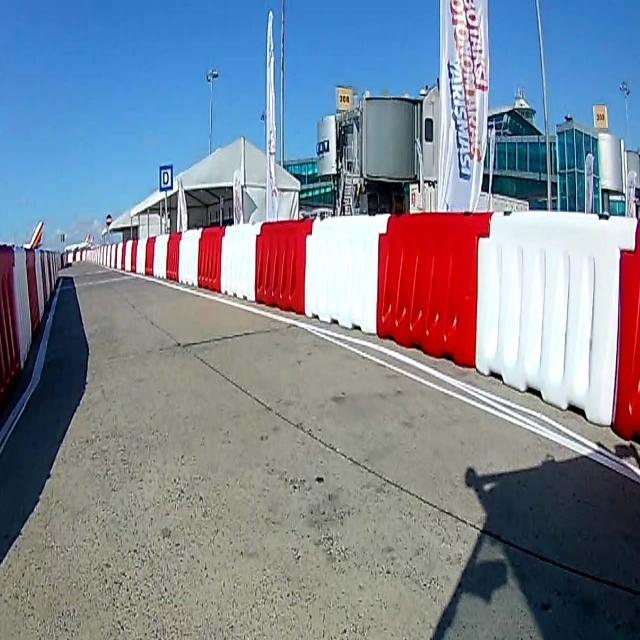durak: (159, 163, 173, 192)
girisyok: (106, 213, 112, 227)
